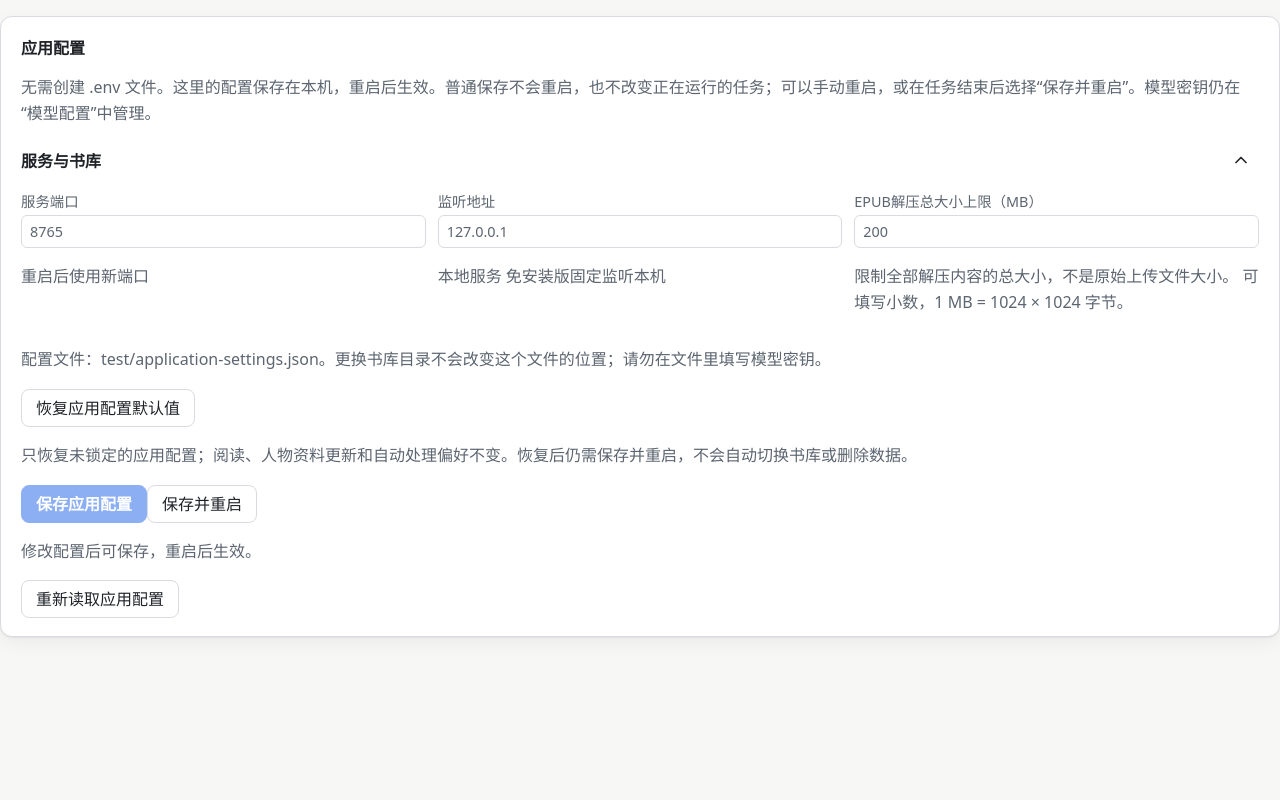
it: max_epub_total_uncompressed_bytes 使用MB展示、范围和小数输入，保存仍使用整数字节
The image size is (1280, 800).
Step 1. Replace the text in the number field labelled "EPUB解压总大小上限（MB）" with "100.5" → (1057, 232), box [854, 215, 1259, 248]
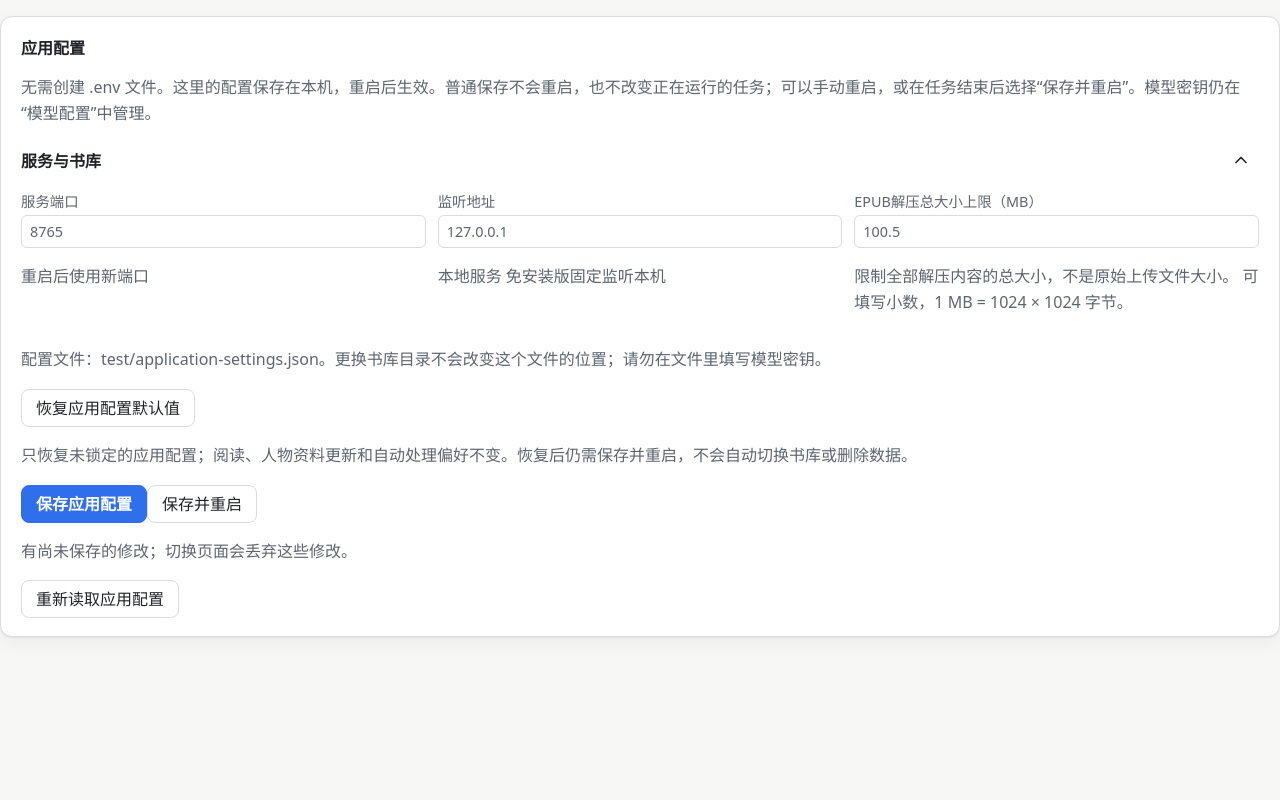
Step 2. Click the button "保存应用配置" → (84, 504), box [21, 485, 147, 523]
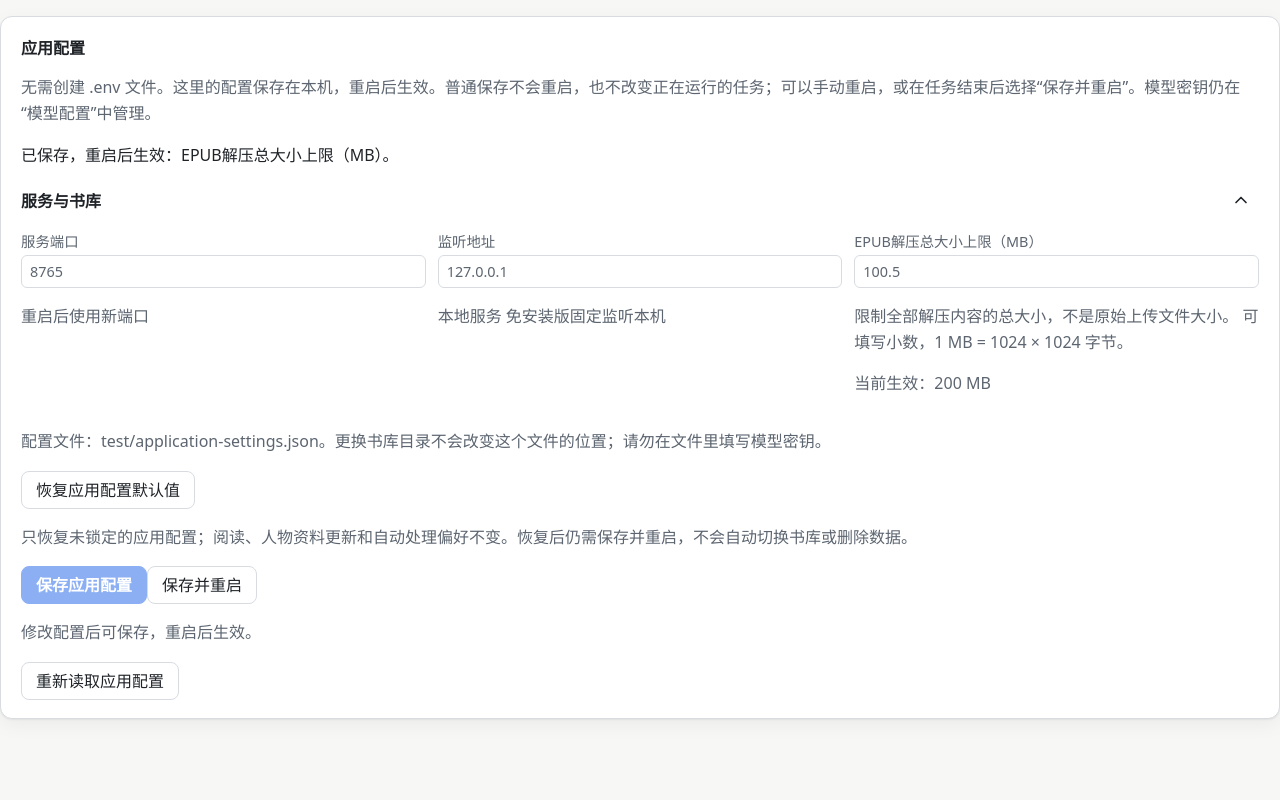
Result: the text "已保存，重启后生效：EPUB解压总大小上限（MB）。" is shown at [21, 144, 399, 166]
